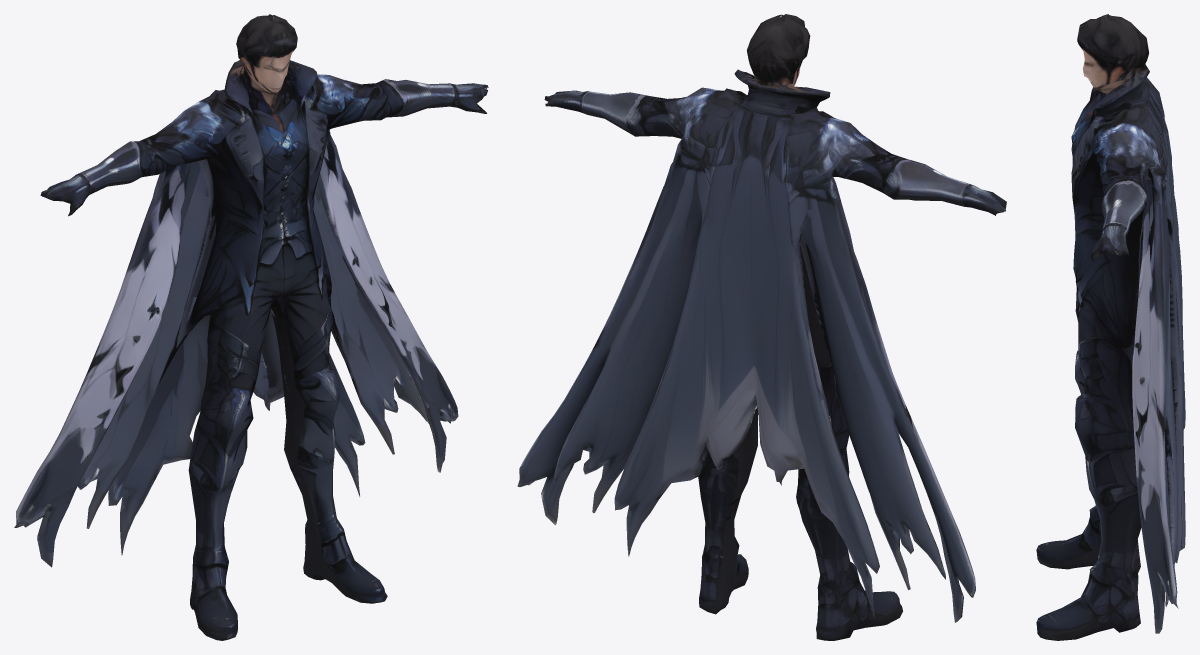
The model's file is base_basic_shaded.glb.
The picture shows the model from 3 angles, left to right: view 1: azimuth 30°, elevation 25°; view 2: azimuth 150°, elevation 25°; view 3: azimuth 270°, elevation 25°; orthographic projection. The views are drawn at different scales.
Visible parts, largest first — view 1: model; view 2: model; view 3: model.
Part boxes in pixels (x1,y1,x2,y2): model: (14,14,488,640); model: (517,14,1006,640); model: (1036,14,1185,640).
Bounding box in the file's own units: 1.51 × 1.89 × 0.437.
Materials: 1 (1 with a texture image).
